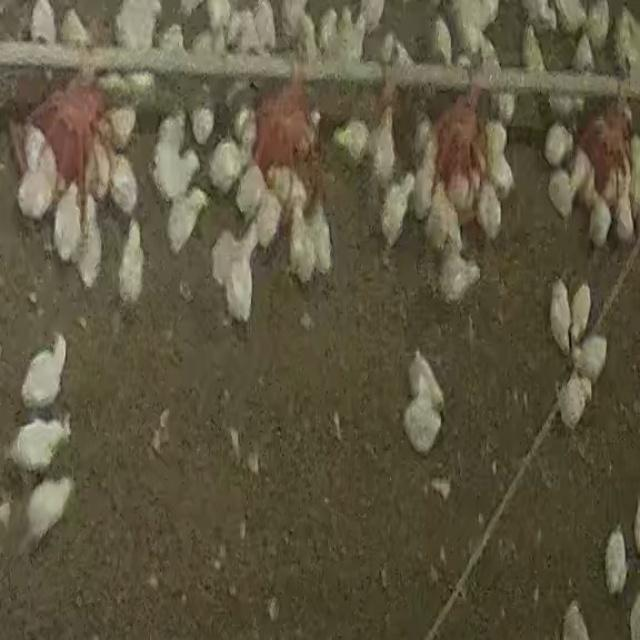chicken: (9, 412, 73, 473), (20, 332, 68, 410), (161, 188, 213, 254), (26, 472, 71, 544), (404, 373, 442, 457), (149, 148, 207, 202), (437, 246, 482, 305), (76, 198, 104, 290), (379, 176, 413, 250), (303, 202, 333, 279), (599, 522, 630, 596), (53, 184, 82, 262), (546, 274, 572, 356), (369, 110, 397, 182), (558, 373, 592, 431), (235, 156, 267, 216), (109, 154, 139, 216), (424, 188, 452, 254), (411, 145, 436, 218), (331, 118, 370, 163), (475, 179, 504, 239), (546, 166, 577, 222), (574, 334, 609, 383), (255, 190, 282, 251), (544, 122, 577, 164), (587, 196, 612, 248), (572, 282, 593, 339), (613, 194, 636, 245)
